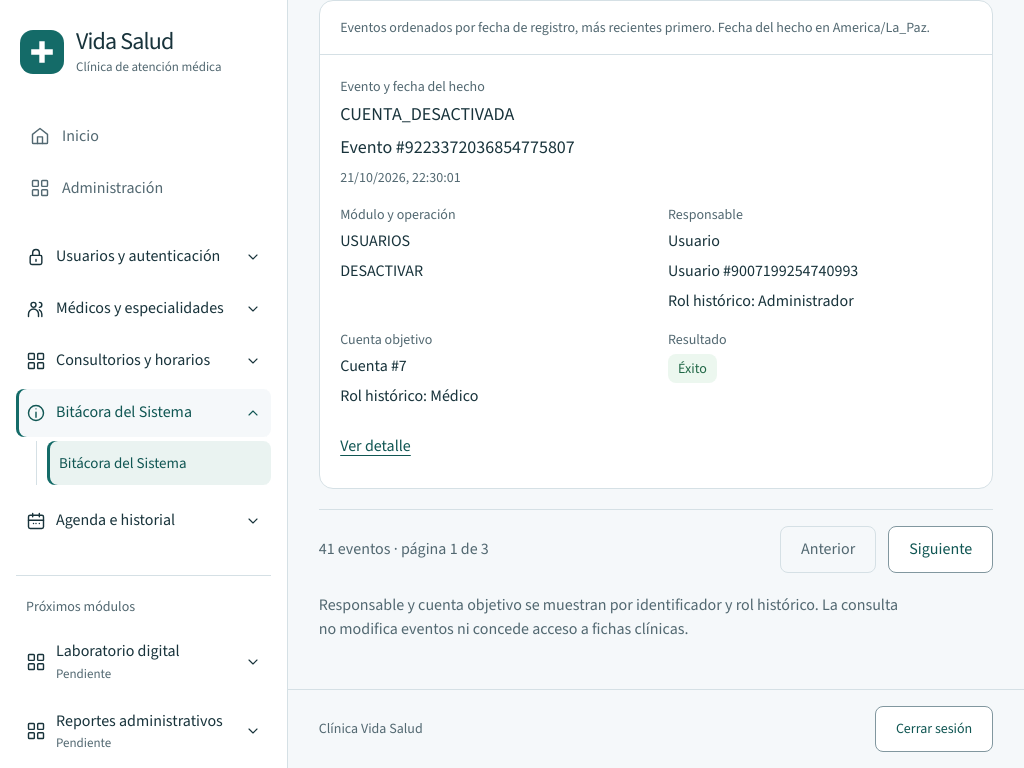
listado, filtros y paginación CU-30 fase 2 › presenta cabecera segura, fecha de sede y roles históricos distintos, sin escrituras
(page scrolled)
Expected: the text "Usuario #9007199254740993" is shown, [668,260,858,281]
Expected: the text "Cuenta #7" is shown, [340,329,644,408]
Click the link "Ver detalle": (376, 445) [340,435,411,456]
(page scrolled)
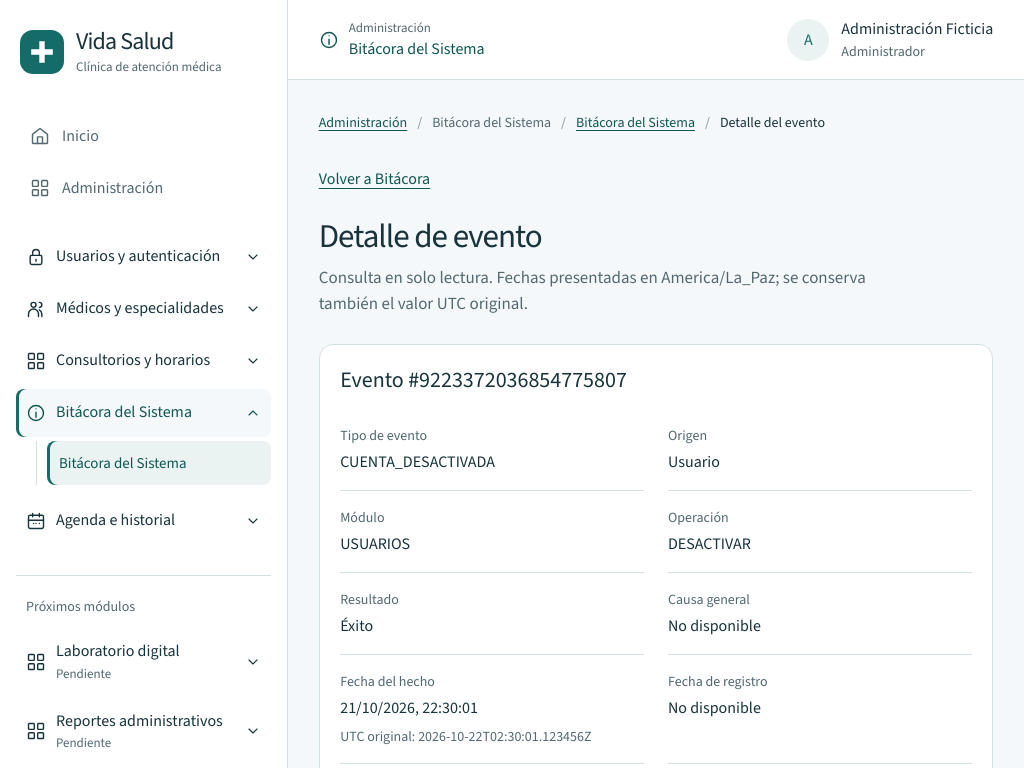
Expected: the heading "Detalle de evento" is shown, [319,214,542,258]
